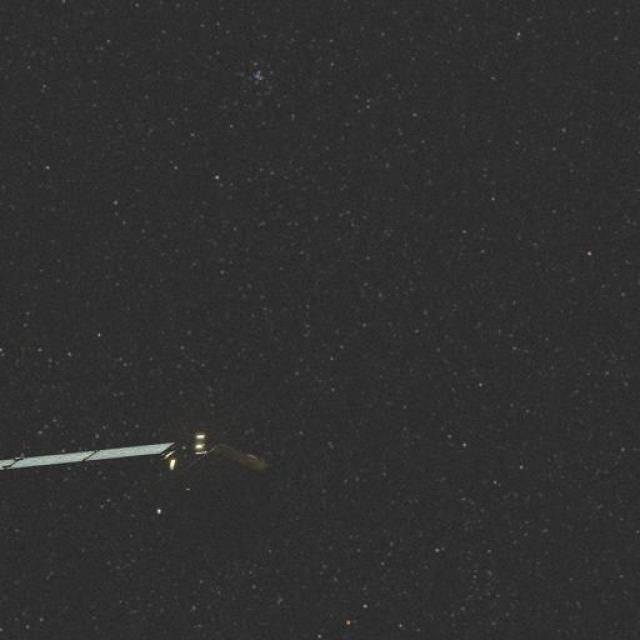earth_observation_sat_1: (17, 408, 283, 512)
